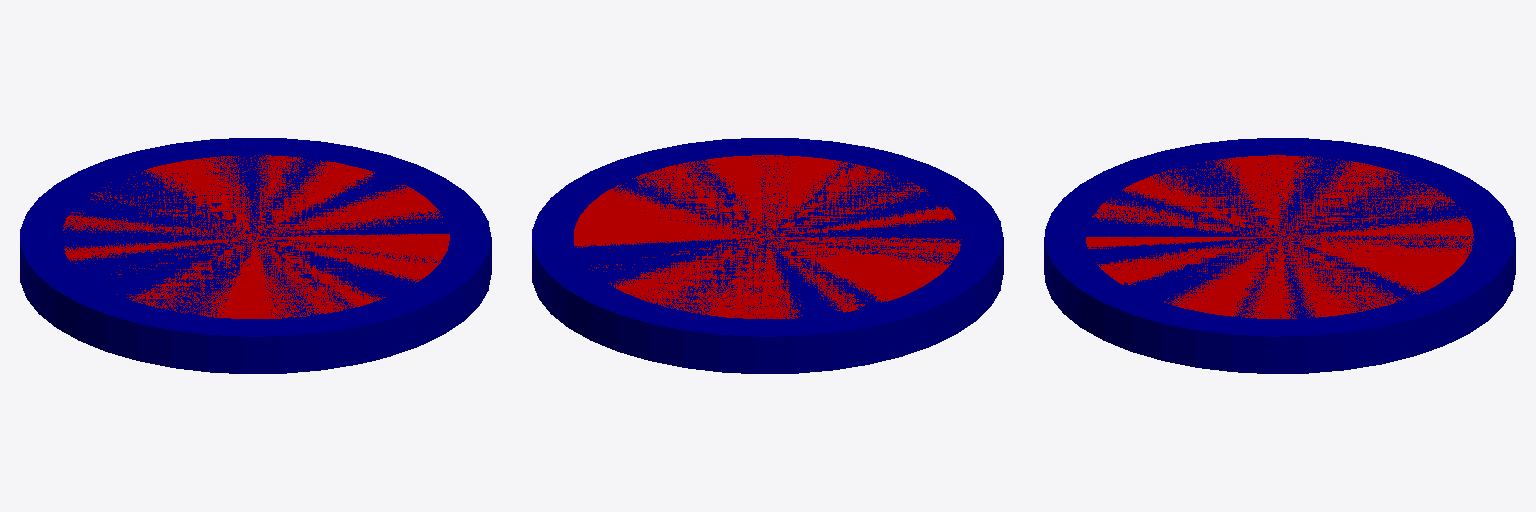
The robot description file, URDF, robot "input_connector_l.SLDASM":
<?xml version="1.0" encoding="utf-8"?>
<!-- This URDF was automatically created by SolidWorks to URDF Exporter! Originally created by [author] ([email redacted]) 
     Commit Version: 1.6.0-4-g7f85cfe  Build Version: 1.6.7995.38578
     For more information, please see http://wiki.ros.org/sw_urdf_exporter -->
<robot
  name="input_connector_l.SLDASM">
  <link
    name="ci_o">
    <inertial>
      <origin
        xyz="0 -4.2001E-18 -0.005"
        rpy="0 0 0" />
      <mass
        value="0" />
      <inertia
        ixx="0.00065331"
        ixy="0"
        ixz="-4.3848E-37"
        iyy="0.00065331"
        iyz="0"
        izz="0.0012933" />
    </inertial>
    <visual>
      <origin
        xyz="0 0 0"
        rpy="0 0 0" />
      <geometry>
        <mesh
          filename="package://input_connector_l.SLDASM/meshes/ci_o.STL" />
      </geometry>
      <material
        name="">
        <color
          rgba="0.79216 0 0 1" />
      </material>
    </visual>
    <collision>
      <origin
        xyz="0 0 0"
        rpy="0 0 0" />
      <geometry>
        <mesh
          filename="package://input_connector_l.SLDASM/meshes/ci_o.STL" />
      </geometry>
    </collision>
  </link>
  <link
    name="ci_b">
    <inertial>
      <origin
        xyz="0 -4.2001E-18 -0.005"
        rpy="0 0 0" />
      <mass
        value="0.79615" />
      <inertia
        ixx="0.00065331"
        ixy="0"
        ixz="-4.3848E-37"
        iyy="0.00065331"
        iyz="0"
        izz="0.0012933" />
    </inertial>
    <visual>
      <origin
        xyz="0 0 0"
        rpy="0 0 0" />
      <geometry>
        <mesh
          filename="package://input_connector_l.SLDASM/meshes/ci_b.STL" />
      </geometry>
      <material
        name="">
        <color
          rgba="0 0 0.58824 1" />
      </material>
    </visual>
    <collision>
      <origin
        xyz="0 0 0"
        rpy="0 0 0" />
      <geometry>
        <mesh
          filename="package://input_connector_l.SLDASM/meshes/ci_b.STL" />
      </geometry>
    </collision>
  </link>
  <joint
    name="ci_f_1"
    type="fixed">
    <origin
      xyz="0 0 0"
      rpy="0 0 0" />
    <parent
      link="ci_o" />
    <child
      link="ci_b" />
    <axis
      xyz="0 0 0" />
  </joint>
  <link
    name="ci_i">
    <inertial>
      <origin
        xyz="5.5075E-34 1.7044E-17 0.005"
        rpy="0 0 0" />
      <mass
        value="0" />
      <inertia
        ixx="0.00065331"
        ixy="0"
        ixz="-4.3848E-37"
        iyy="0.00065331"
        iyz="0"
        izz="0.0012933" />
    </inertial>
    <visual>
      <origin
        xyz="0 0 0"
        rpy="0 0 0" />
      <geometry>
        <mesh
          filename="package://input_connector_l.SLDASM/meshes/ci_i.STL" />
      </geometry>
      <material
        name="">
        <color
          rgba="0 0 0.93333 1" />
      </material>
    </visual>
    <collision>
      <origin
        xyz="0 0 0"
        rpy="0 0 0" />
      <geometry>
        <mesh
          filename="package://input_connector_l.SLDASM/meshes/ci_i.STL" />
      </geometry>
    </collision>
  </link>
  <joint
    name="ci_f_2"
    type="fixed">
    <origin
      xyz="0 0 -0.01"
      rpy="0 0 0" />
    <parent
      link="ci_b" />
    <child
      link="ci_i" />
    <axis
      xyz="0 0 0" />
  </joint>
</robot>

--- Facts derived from the render (not from the file) ---
The picture shows the robot from 3 angles, left to right: view 1: azimuth 30°, elevation 25°; view 2: azimuth 150°, elevation 25°; view 3: azimuth 270°, elevation 25°; orthographic projection.
Robot: input_connector_l.SLDASM — 3 links, 2 joints (2 fixed); root link ci_o; default pose: all joints at 0.
Visible links, largest first — view 1: ci_b, ci_o; view 2: ci_b, ci_o; view 3: ci_b, ci_o.
Boxes of the visible links, x1,y1,x2,y2 form: ci_b: (20,138,491,373); ci_o: (63,155,449,318); ci_b: (532,138,1003,373); ci_o: (574,155,961,318); ci_b: (1044,138,1515,373); ci_o: (1086,155,1473,318).
Size in the robot's own frame: 0.1139 by 0.114 by 0.01 metres.
Meshes: 3 distinct files referenced, 3 mesh visuals loaded (3 binary STL).